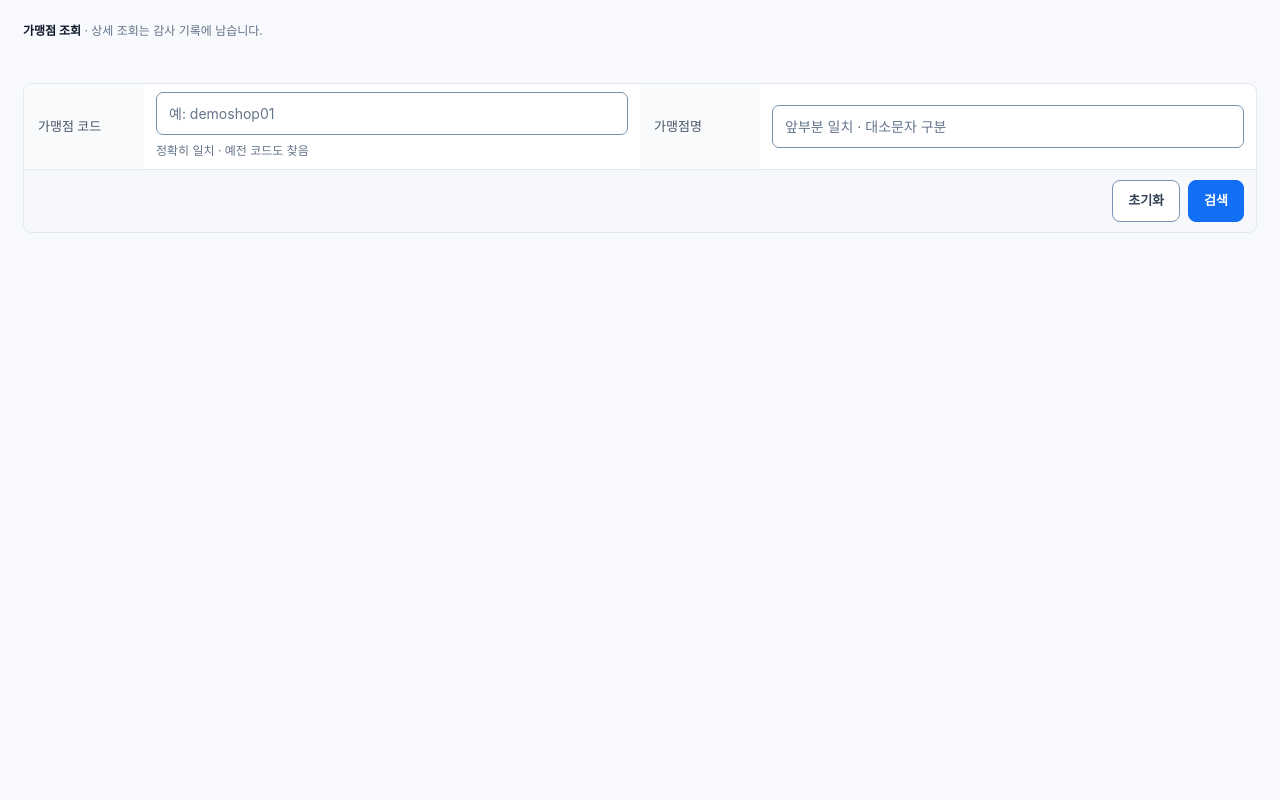
Test: detail screen switch moves focus to the new screen title (review MINOR-2) › 가맹점 조회: "상세" → the detail screen title; "← 목록으로" → the list title; the first render moves nothing
The width and height of the screenshot is (1280, 800).
Click the button "검색". click: point(1216, 201)
box: [1188,180,1244,222]
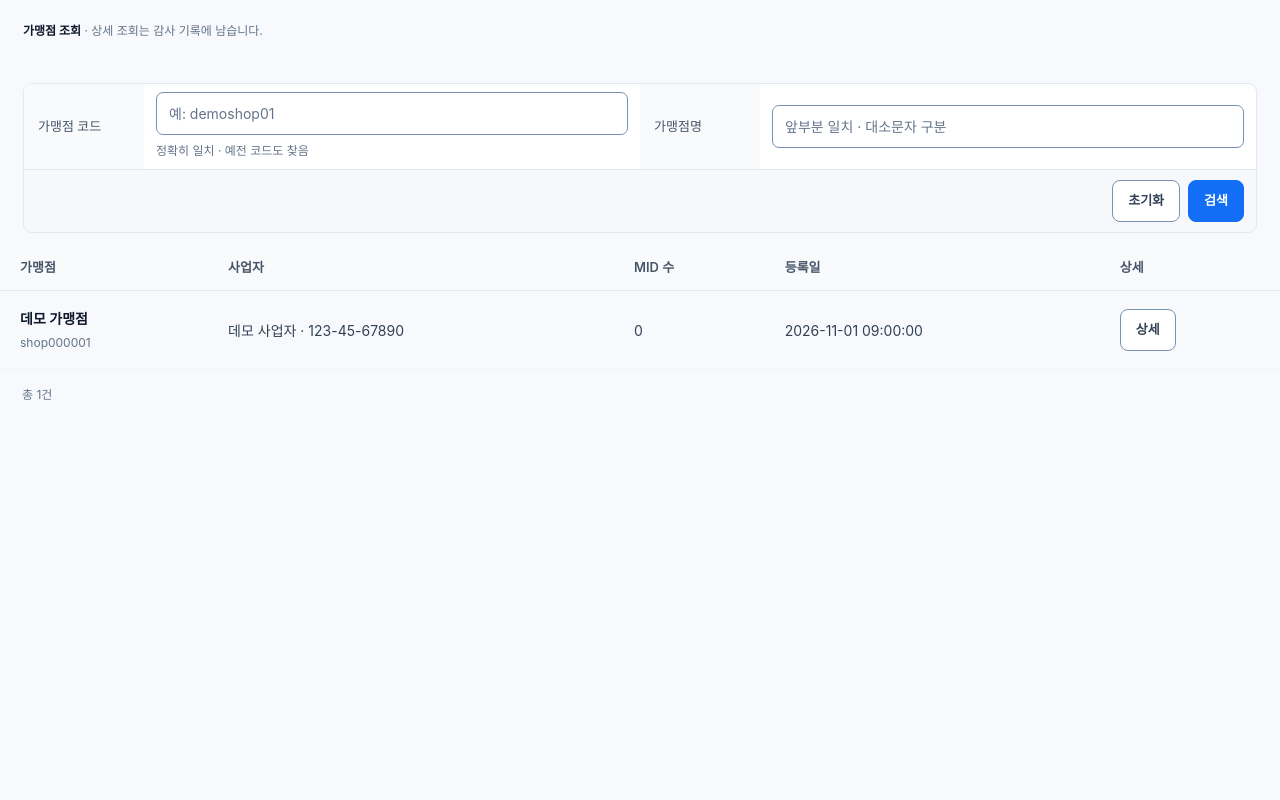
Click the button "상세". click: point(1148, 330)
box: [1120,309,1176,351]
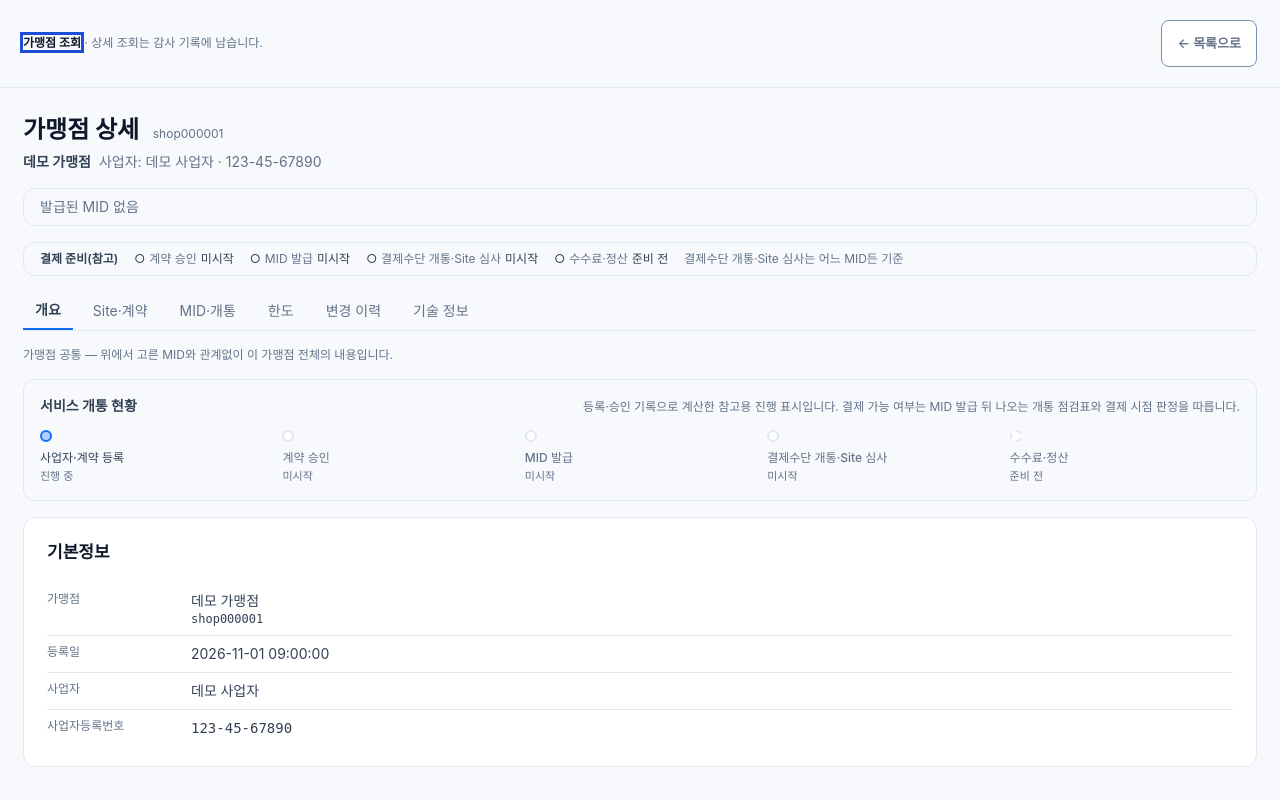
Expected: the button "← 목록으로" is shown
Click the button "← 목록으로". click: point(1209, 43)
box: [1162,20,1257,67]
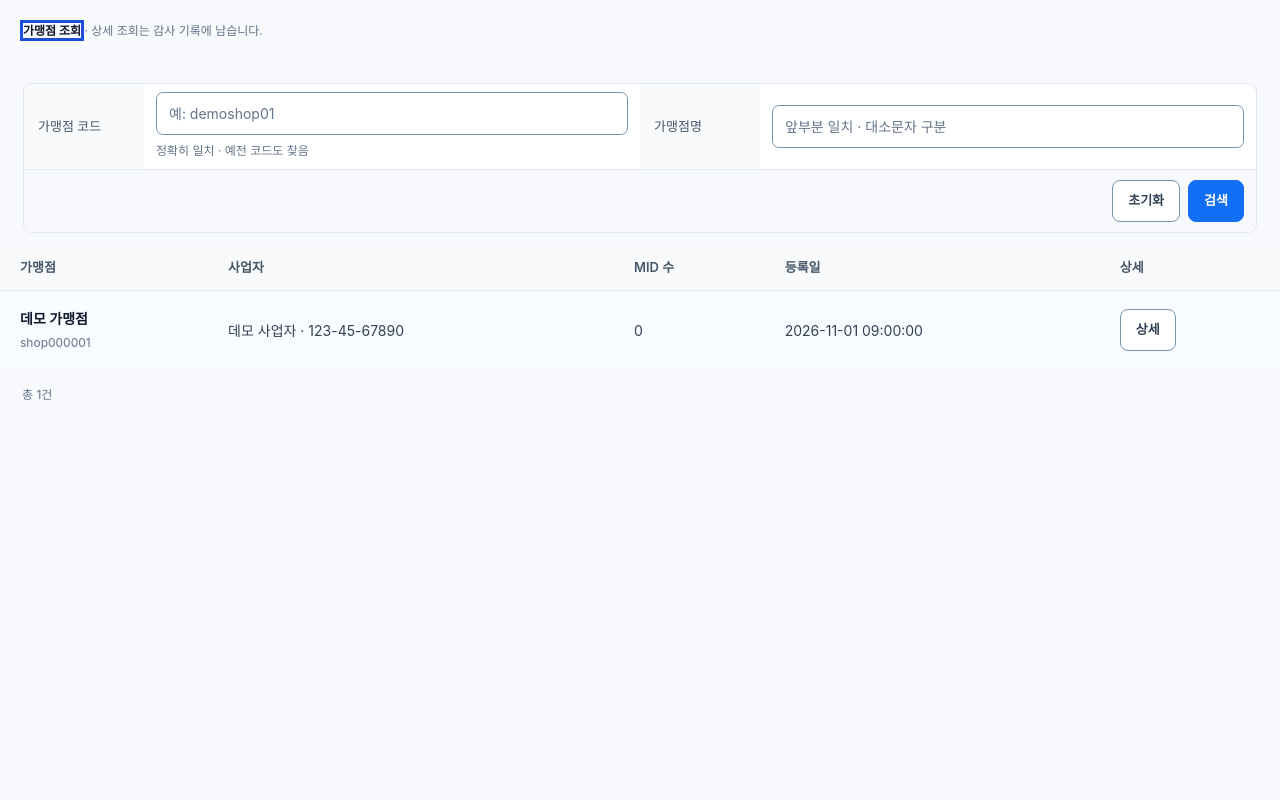
Expected: the table named "가맹점 목록" is shown, [0,245,1279,370]
Expected: the button "← 목록으로" is gone
